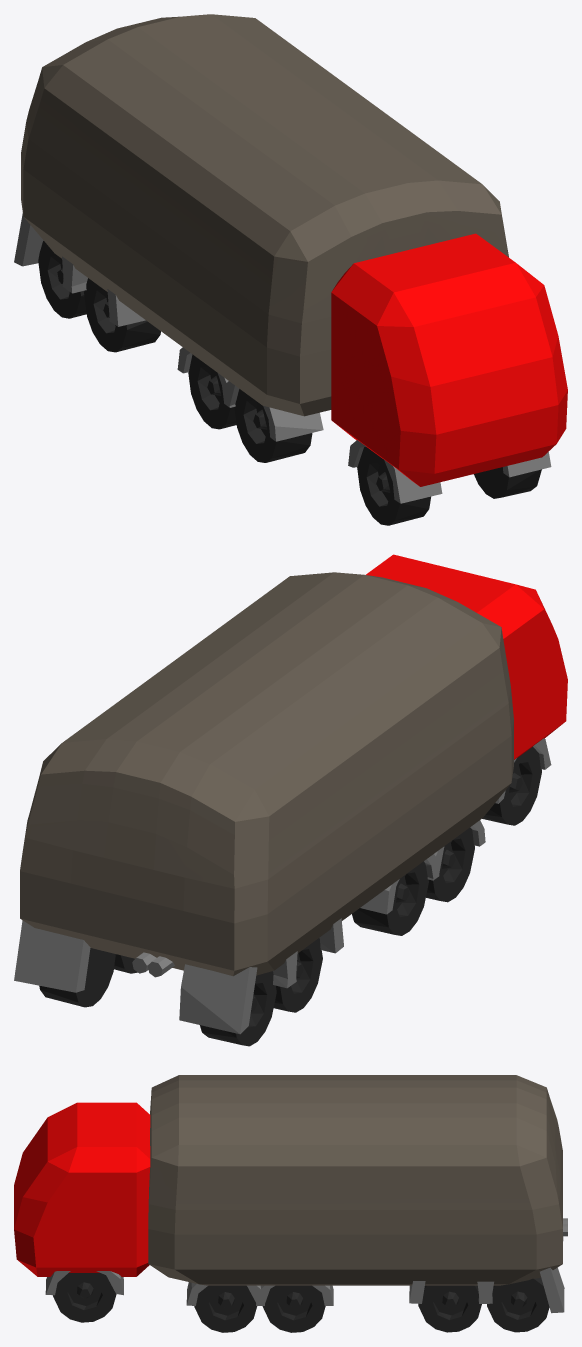
Rendered from bezos_deliverytruck (6).fbx.
3 renders of one model, top to bottom at view 1: azimuth 30°, elevation 25°; view 2: azimuth 150°, elevation 25°; view 3: azimuth 270°, elevation 25°, orthographic. The views are drawn at different scales.
Visible parts, largest first — view 1: Cylinder; view 2: Cylinder; view 3: Cylinder.
Part boxes in pixels (bbox=[...]): Cylinder: bbox=[14, 14, 567, 525]; Cylinder: bbox=[14, 554, 567, 1046]; Cylinder: bbox=[14, 1075, 567, 1332].
Size of the model in its own units: 200 by 212 by 527.
